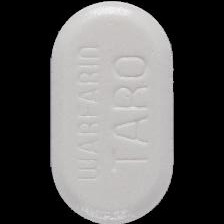63629-4543: (0, 0, 224, 224)
